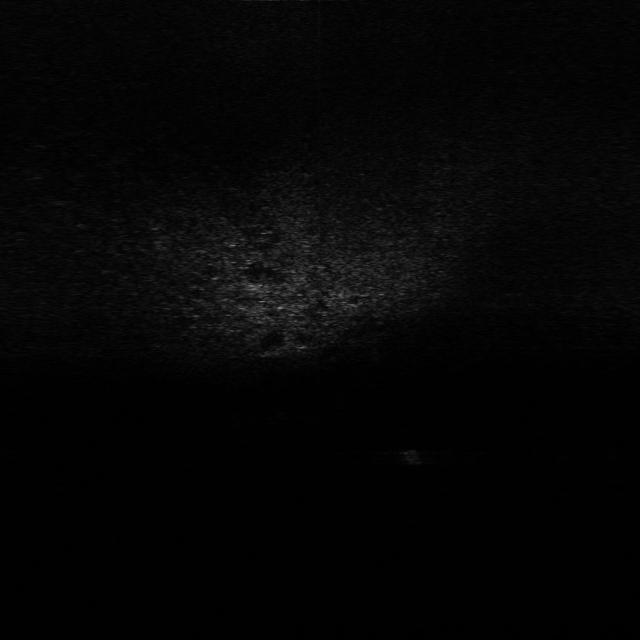cylinder: (402, 442, 428, 469)
